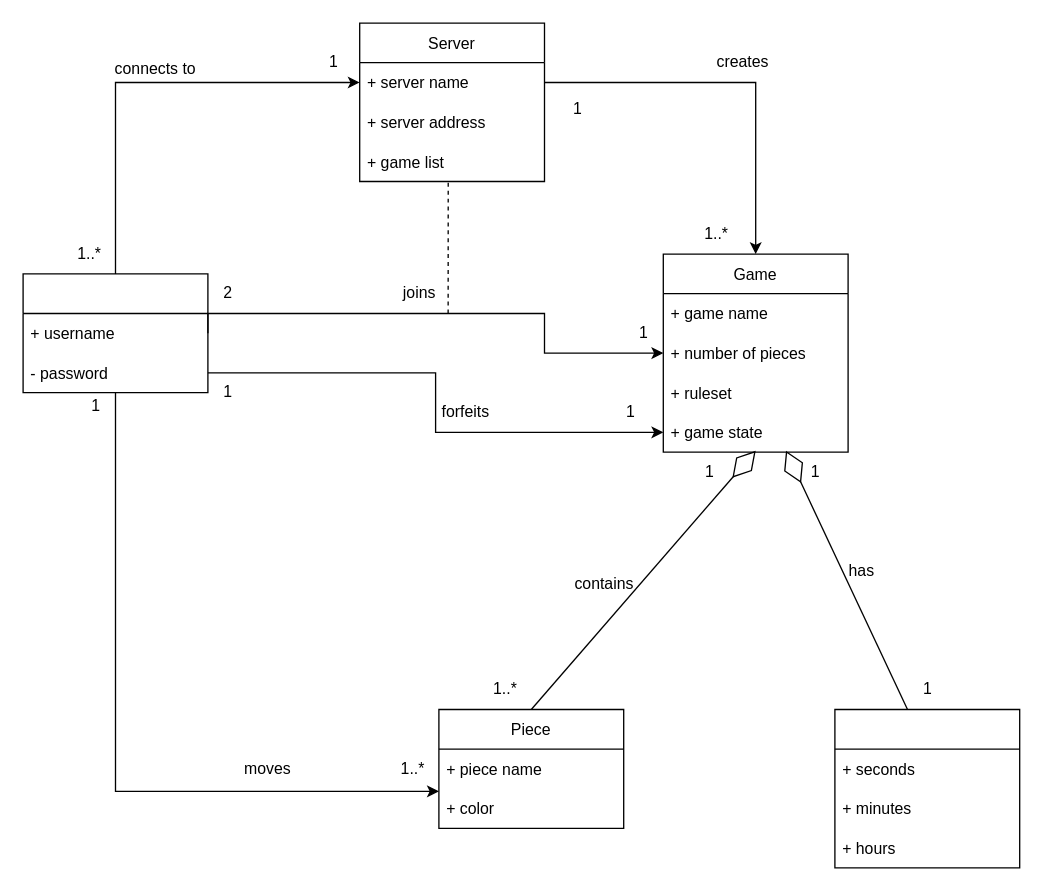
The diagram is 1043 pixels wide and 891 high, and some of its shapes have lost their labels. The box of each missing label's shape, as (x1, y1, x2, y2) in pixels:
Player: (22, 273, 208, 393)
Timer: (834, 708, 1020, 868)
